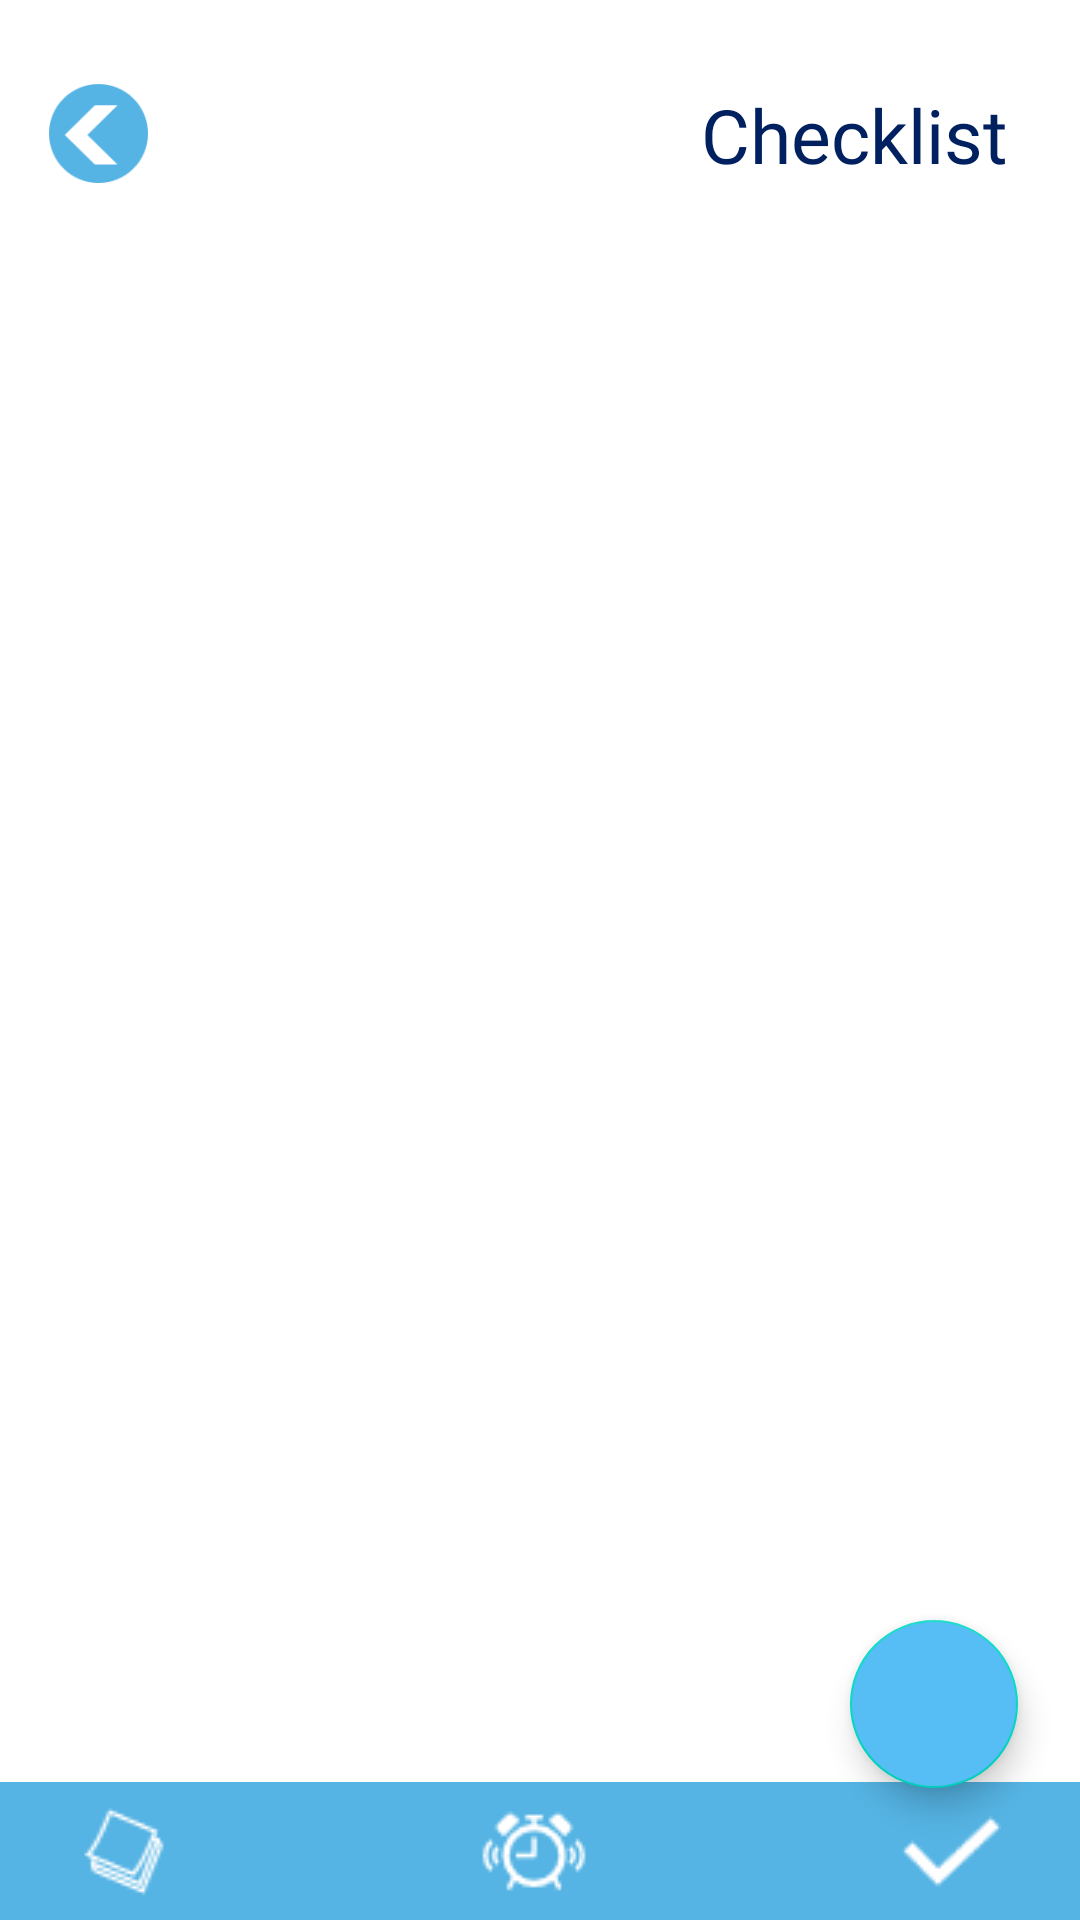

Icons on this 1080×1920 Android screen, each with its box as (x1, y1, x2, y2):
alarms: (482, 1812, 586, 1891)
back: (49, 84, 148, 183)
